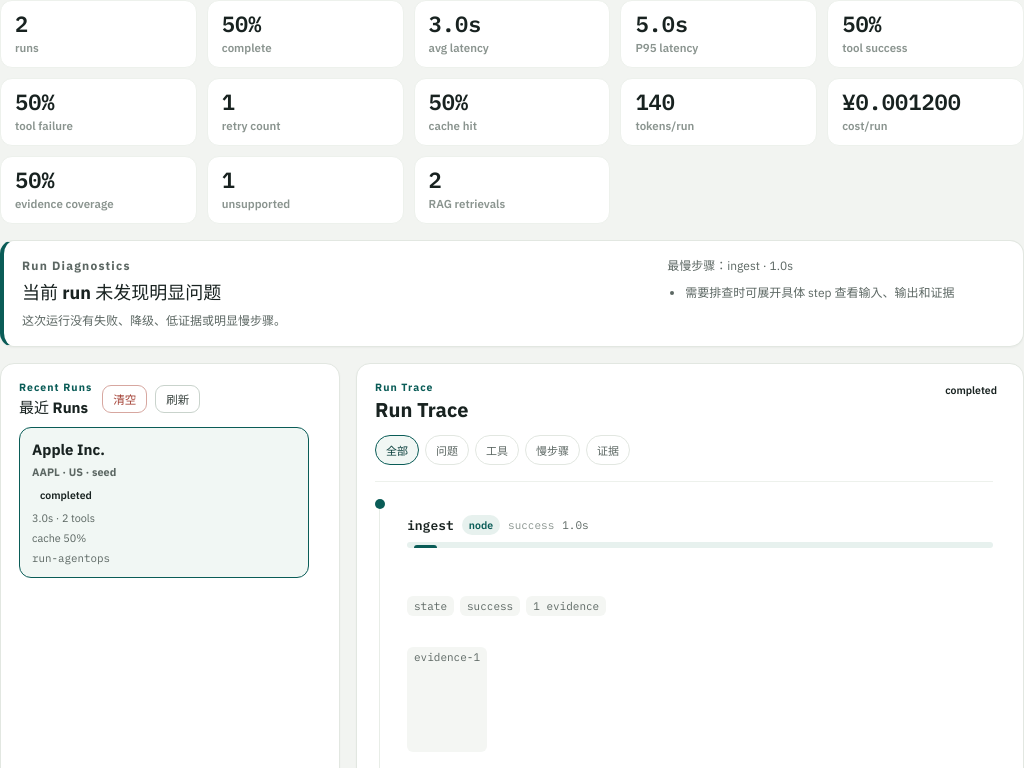
AgentOpsDashboard › clears run history after confirmation
The width and height of the screenshot is (1024, 768).
Expected: the text "run-agentops" is shown, top-left (32, 551), bottom-right (110, 565)
Click the button with aria-label "清空 Run 记录" at coordinates (125, 399), box top-left (102, 385), bottom-right (147, 413)
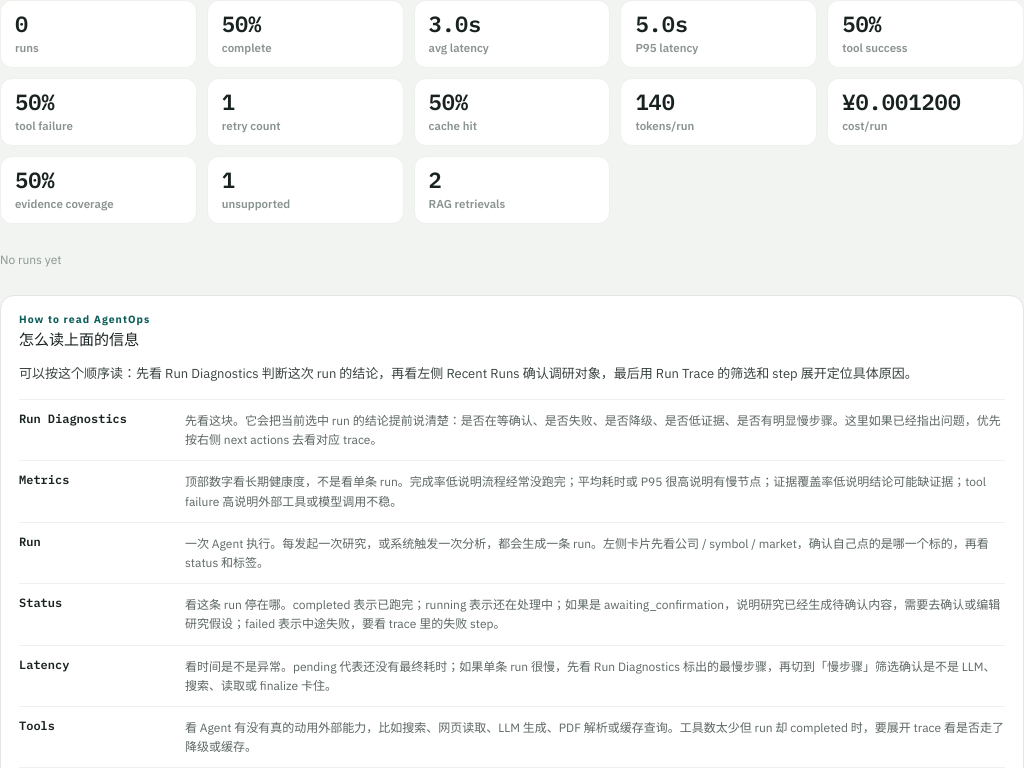
Expected: the text "No runs yet" is shown, top-left (0, 252), bottom-right (62, 267)
